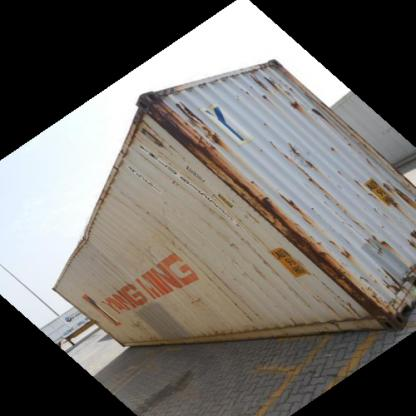Damage: (273, 218, 401, 312), (146, 104, 227, 163), (278, 132, 329, 200), (250, 76, 309, 119), (365, 172, 410, 216), (128, 312, 168, 345), (69, 216, 103, 251), (180, 290, 204, 310)
